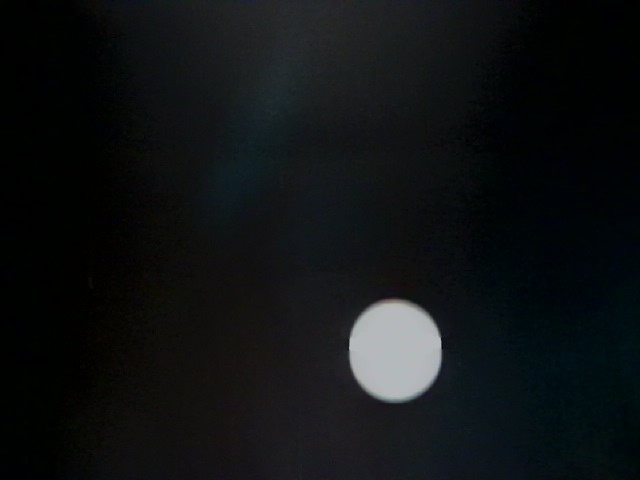CYLJ: (319, 146, 640, 441)
